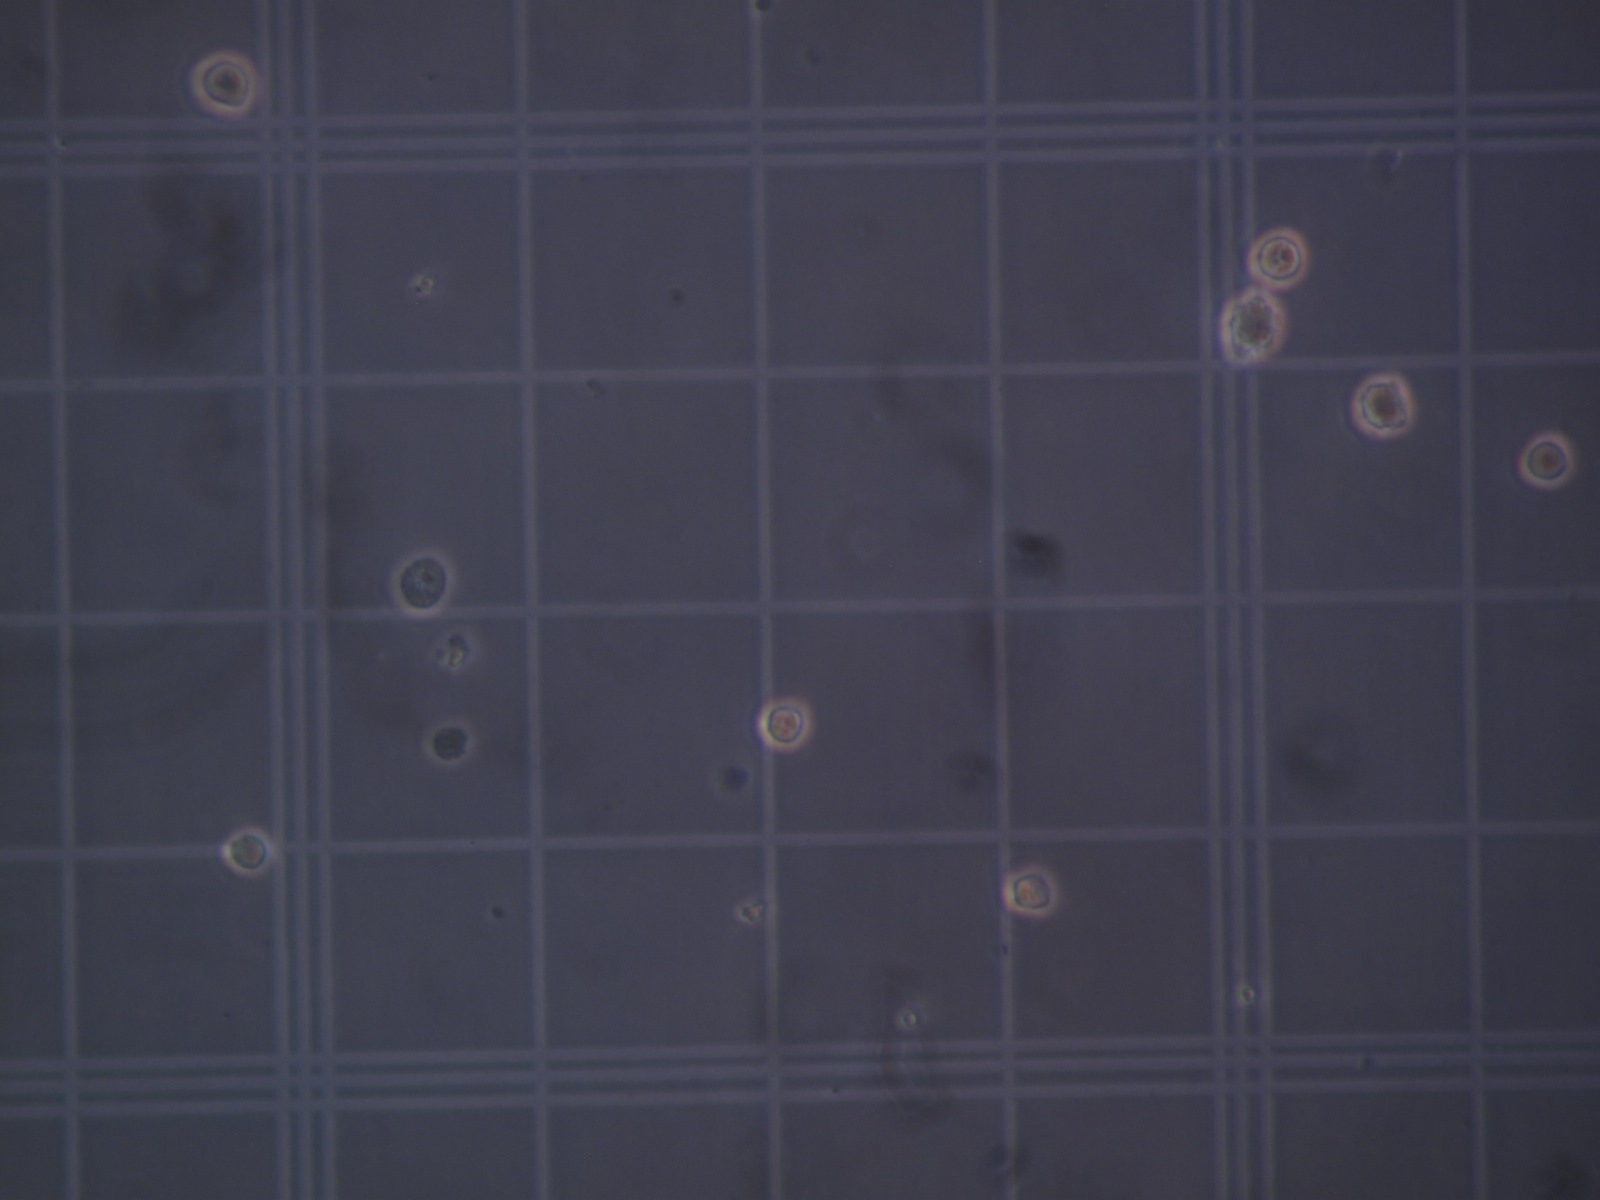hemo: (1221, 289, 1286, 361), (189, 50, 258, 116), (391, 550, 456, 618), (1351, 373, 1415, 437), (1247, 227, 1308, 290), (1519, 432, 1574, 489), (1002, 863, 1060, 916), (757, 697, 813, 751), (223, 827, 273, 877), (425, 718, 475, 765)
